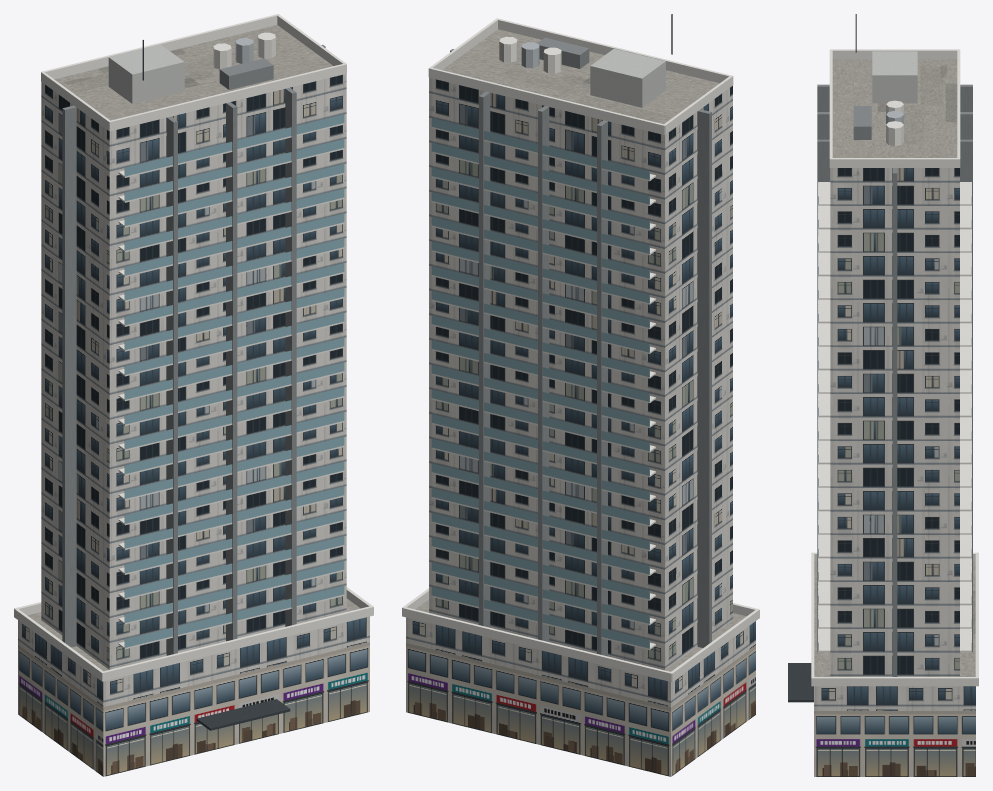
The model's file is OW_CaoOc_CH_BanCong_82.fbx.
3 views of the same model, side by side, from view 1: azimuth 30°, elevation 25°; view 2: azimuth 150°, elevation 25°; view 3: azimuth 270°, elevation 25° (orthographic). The views are drawn at different scales.
Parts seen in each view (by area): view 1: OW_CaoOc_CH_BanCong_82_LOD0; view 2: OW_CaoOc_CH_BanCong_82_LOD0; view 3: OW_CaoOc_CH_BanCong_82_LOD0.
Boxes of the visible parts, bbox=[...] form: OW_CaoOc_CH_BanCong_82_LOD0: bbox=[14, 14, 373, 776]; OW_CaoOc_CH_BanCong_82_LOD0: bbox=[402, 14, 759, 776]; OW_CaoOc_CH_BanCong_82_LOD0: bbox=[788, 14, 978, 776].
Size of what is drawn, in the model's own units: 36.7 by 91 by 23.55.
